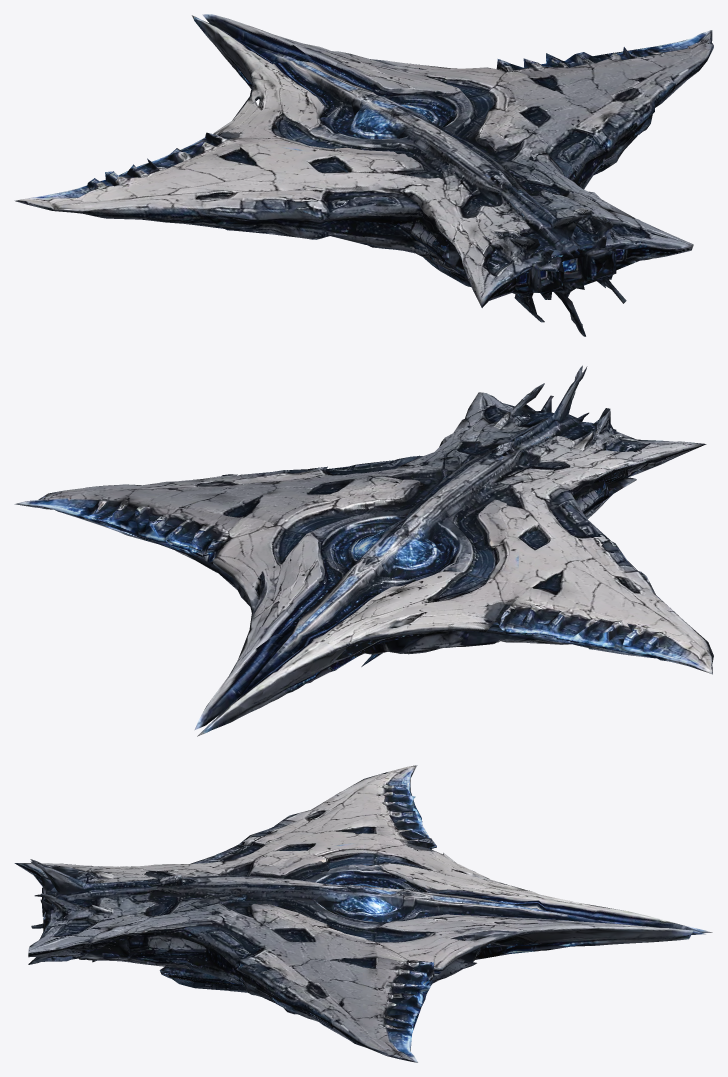
File: arbiter.glb
The picture shows the model from 3 angles, top to bottom: view 1: azimuth 30°, elevation 25°; view 2: azimuth 150°, elevation 25°; view 3: azimuth 270°, elevation 25°; orthographic projection. The views are drawn at different scales.
Visible parts, largest first — view 1: tripo_node_34d0dd3e-8a99-49d5-9fa1-be1081a6bb5b; view 2: tripo_node_34d0dd3e-8a99-49d5-9fa1-be1081a6bb5b; view 3: tripo_node_34d0dd3e-8a99-49d5-9fa1-be1081a6bb5b.
Part boxes in pixels (x1,y1,x2,y2): tripo_node_34d0dd3e-8a99-49d5-9fa1-be1081a6bb5b: [14, 14, 713, 336]; tripo_node_34d0dd3e-8a99-49d5-9fa1-be1081a6bb5b: [14, 365, 713, 736]; tripo_node_34d0dd3e-8a99-49d5-9fa1-be1081a6bb5b: [14, 765, 712, 1062].
Bounding box in the file's own units: 0.9996 × 0.2038 × 0.9924.
Materials: 1 (1 with a texture image).
